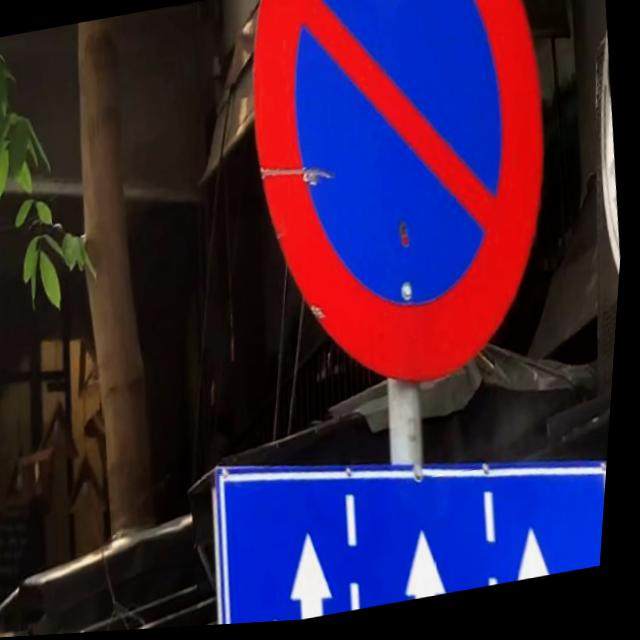Cam do xe: (214, 0, 587, 422)
